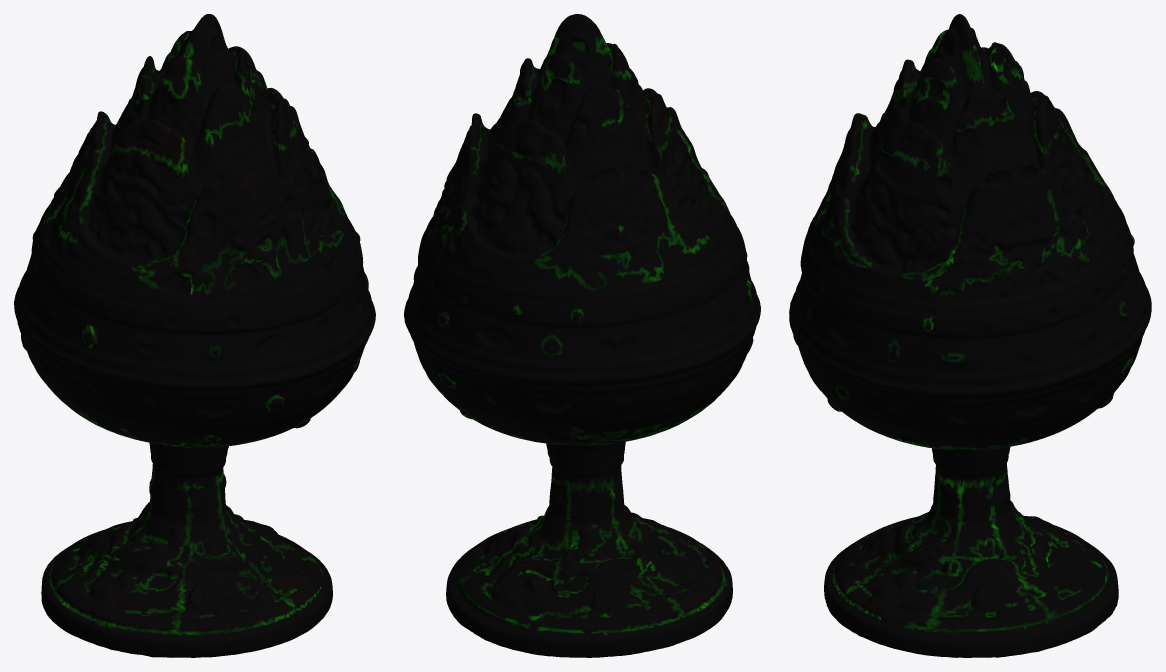
3 views of the same model, side by side, from view 1: azimuth 30°, elevation 25°; view 2: azimuth 150°, elevation 25°; view 3: azimuth 270°, elevation 25° (orthographic). The views are drawn at different scales.
Parts seen in each view (by area): view 1: xianglu; view 2: xianglu; view 3: xianglu.
Part boxes in pixels (box(x1,y1,x2,y2)): xianglu: box(14, 14, 375, 657); xianglu: box(404, 14, 760, 657); xianglu: box(789, 14, 1151, 657).
Size of the model in its own units: 0.1173 by 0.2087 by 0.1163.
Materials: 1 (1 with a texture image).
